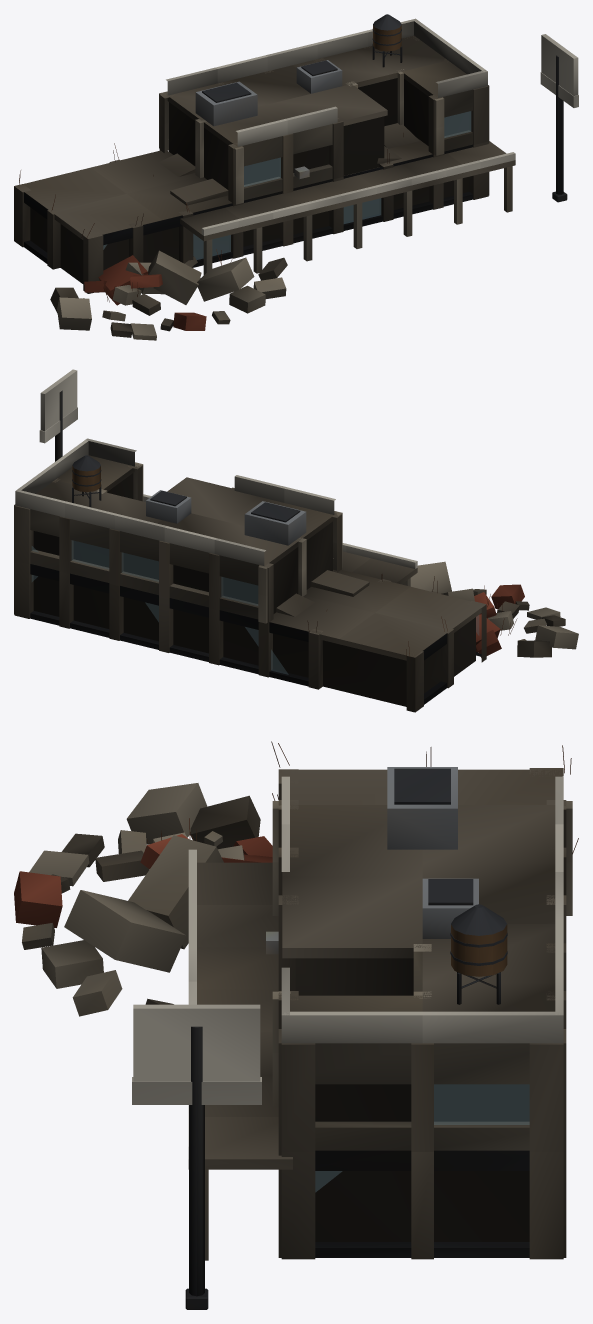
The model's file is ruin_lowrise_b.glb.
The picture shows the model from 3 angles, top to bottom: view 1: azimuth 30°, elevation 25°; view 2: azimuth 150°, elevation 25°; view 3: azimuth 270°, elevation 25°; orthographic projection. The views are drawn at different scales.
Parts seen in each view (by area): view 1: concrete_dark, concrete, paint2, metal_dark, metal_bare, glass, brick, paint, wood; view 2: concrete_dark, concrete, paint2, metal_dark, glass, metal_bare, paint, brick, wood; view 3: concrete_dark, concrete, paint2, metal_dark, paint, metal_bare, glass, brick, wood.
Part boxes in pixels (x1,y1,x2,y2): concrete_dark: (14,35,515,337); concrete: (57,69,512,340); paint2: (166,18,578,235); metal_dark: (24,14,567,267); metal_bare: (195,60,342,179); glass: (103,111,470,259); brick: (84,255,206,330); paint: (541,34,578,95); wood: (373,25,401,51); concrete_dark: (14,455,565,712); concrete: (30,462,578,649); paint2: (15,407,417,568); metal_dark: (30,390,481,704); glass: (32,540,478,674); metal_bare: (146,490,306,545); paint: (40,369,77,431); brick: (474,584,524,657); wood: (72,466,100,492); concrete_dark: (51,768,566,1259); concrete: (22,783,572,1260); paint2: (132,776,563,1158); metal_dark: (185,768,529,1309); paint: (133,1004,260,1081); metal_bare: (266,767,478,954); glass: (315,1084,529,1191); brick: (14,834,272,927); wood: (451,924,507,976).
Size of what is drawn, in the model's own units: 41.14 by 12.27 by 20.03.
